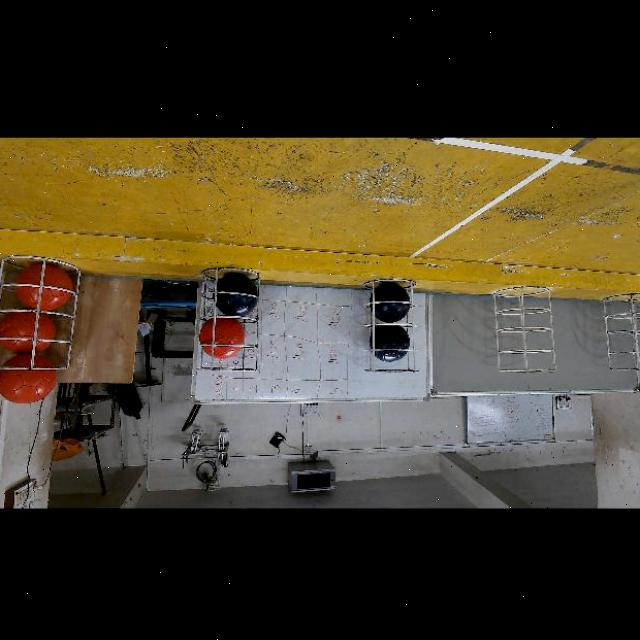P: (212, 272, 259, 316), (369, 281, 410, 322), (370, 324, 410, 363)
R: (0, 354, 56, 404), (13, 261, 71, 308), (0, 311, 55, 356), (199, 317, 246, 360)
S: (0, 255, 70, 371), (198, 268, 260, 374), (362, 278, 418, 374), (496, 286, 554, 376), (596, 288, 640, 374)
